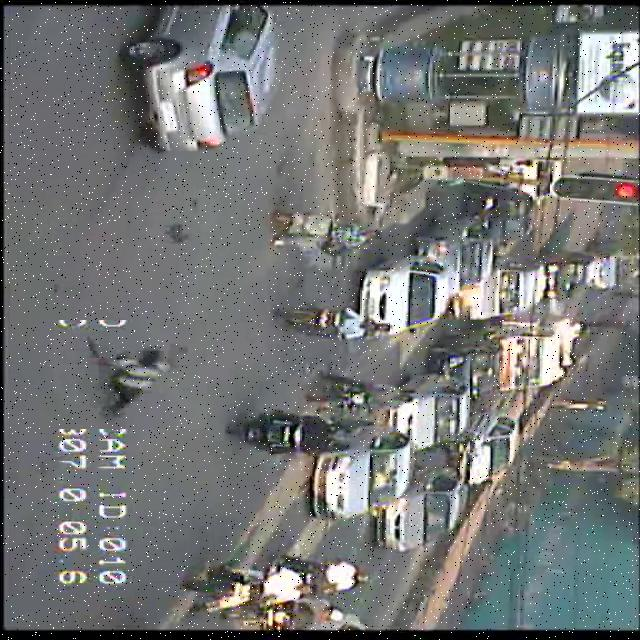Accident: (38, 320, 206, 429)
